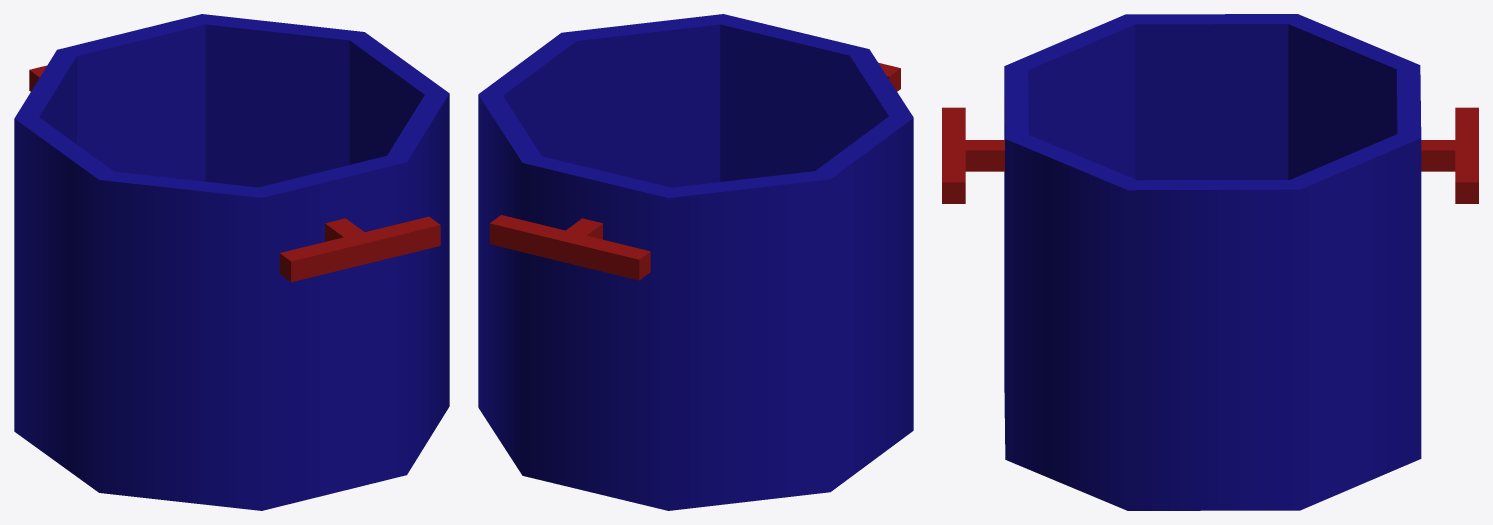
Rendered from SM_Marmitte.FBX.
The picture shows the model from 3 angles, left to right: view 1: azimuth 30°, elevation 25°; view 2: azimuth 150°, elevation 25°; view 3: azimuth 270°, elevation 25°; orthographic projection. The views are drawn at different scales.
Visible parts, largest first — view 1: SM_Marmitte; view 2: SM_Marmitte; view 3: SM_Marmitte.
Part boxes in pixels (x1,y1,x2,y2): SM_Marmitte: [14, 14, 449, 510]; SM_Marmitte: [478, 14, 913, 510]; SM_Marmitte: [942, 14, 1478, 510].
Size of the model in its own units: 35.33 by 30 by 45.49.
